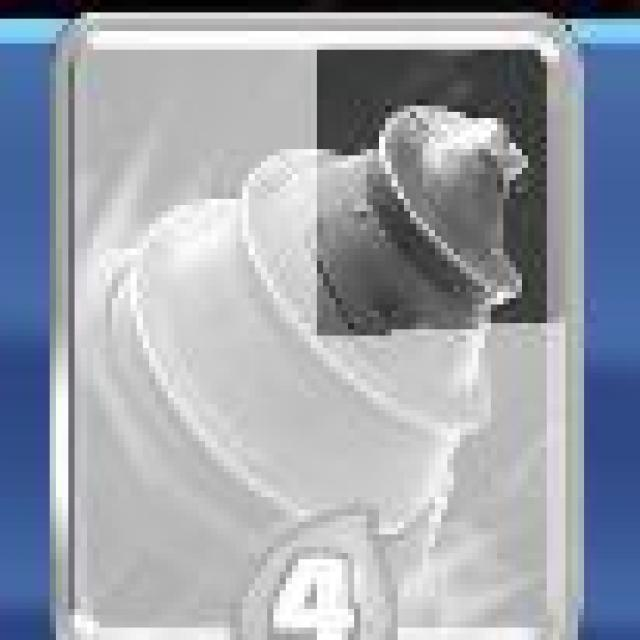Goblin_Drill: (52, 15, 591, 640)
